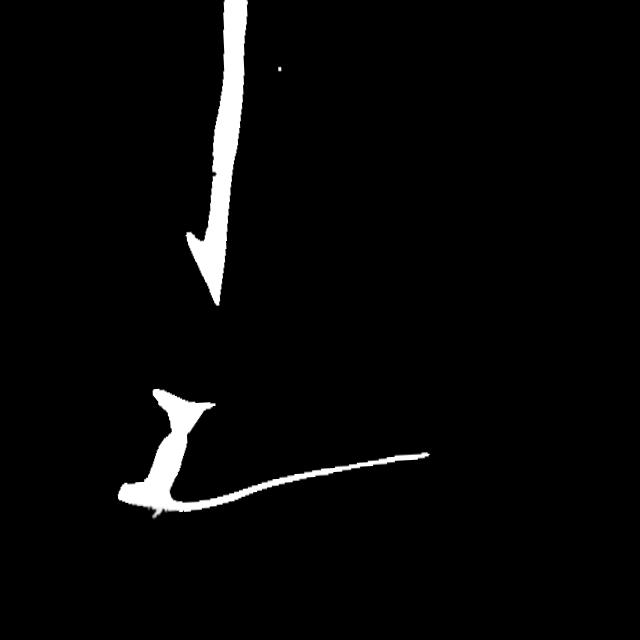sup_pli: (141, 502, 162, 526)
